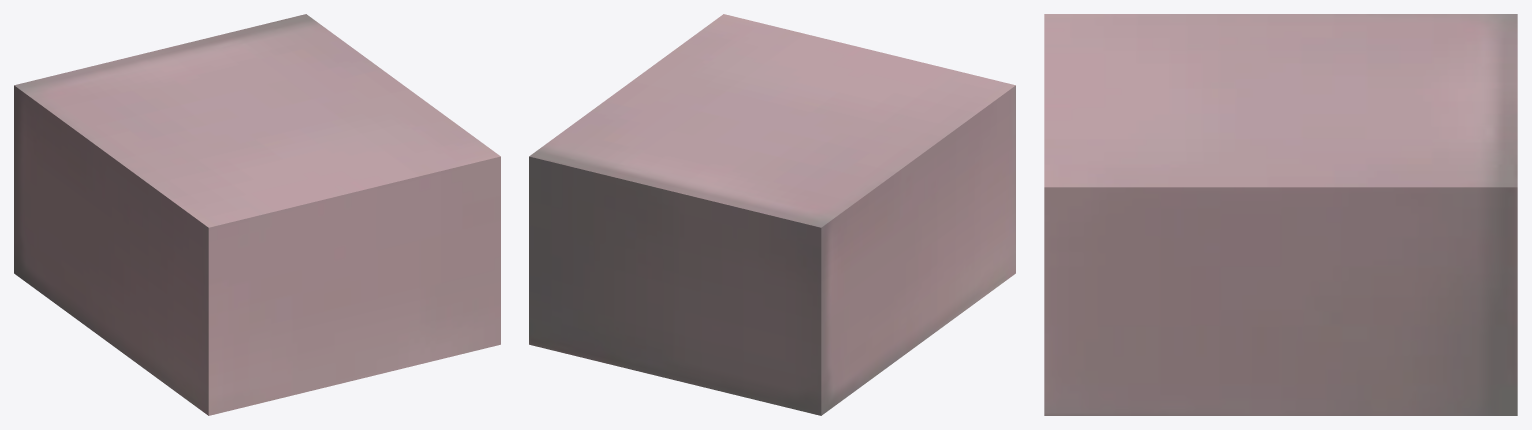
The model's file is frame__support_pivot_ear_1.glb.
The picture shows the model from 3 angles, left to right: view 1: azimuth 30°, elevation 25°; view 2: azimuth 150°, elevation 25°; view 3: azimuth 270°, elevation 25°; orthographic projection. The views are drawn at different scales.
Visible parts, largest first — view 1: world; view 2: world; view 3: world.
Boxes of the visible parts, x1=… form: world: x1=14, y1=14, x2=500, y2=415; world: x1=529, y1=14, x2=1015, y2=415; world: x1=1044, y1=14, x2=1517, y2=415.
Size of the model in its own units: 0.052 by 0.032 by 0.06.
Materials: 1 (1 with a texture image).
